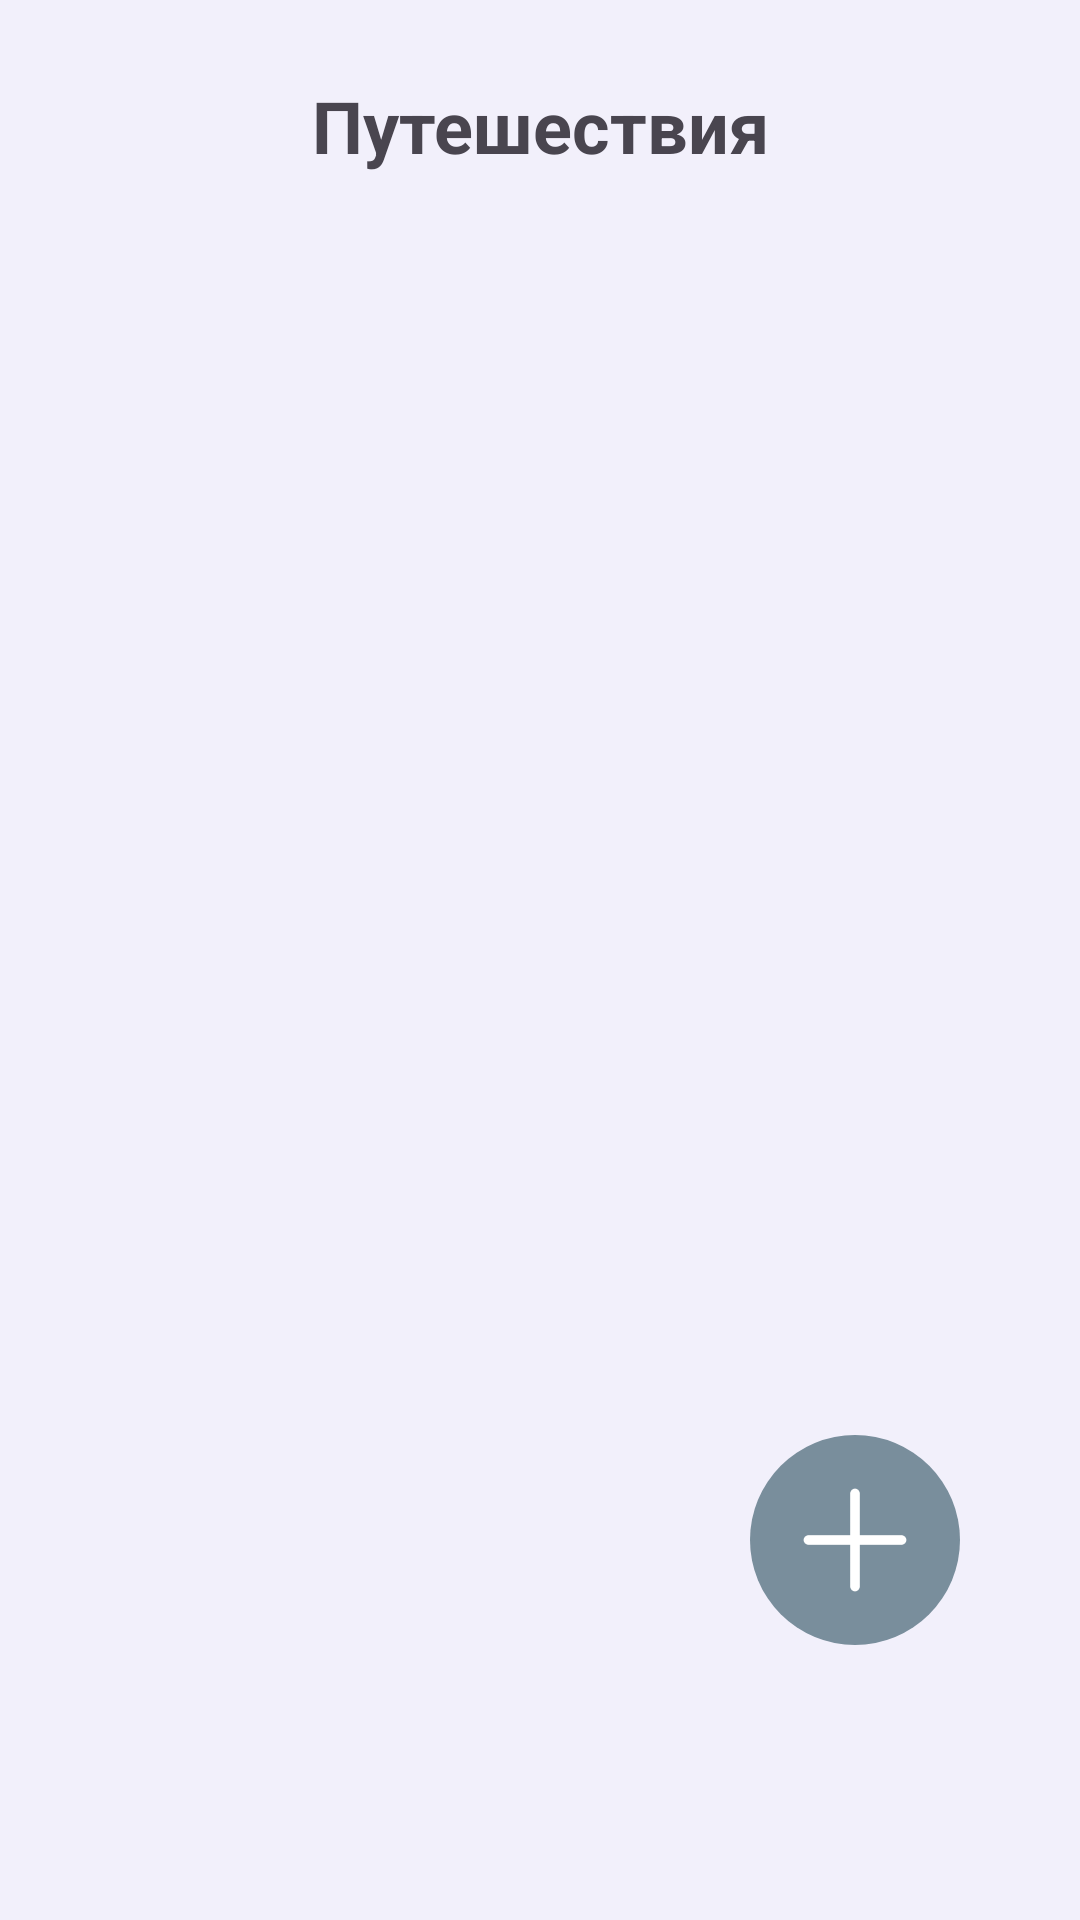

Named icons in this screenshot (1080px x 1920px) and their bounding boxes, (x1, y1, x2, y2):
plus: (803, 1488, 907, 1592)
